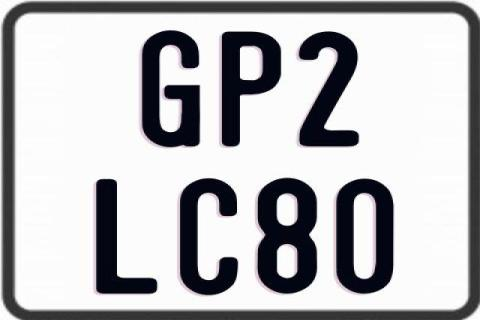0: (254, 177, 316, 297), (298, 29, 359, 147), (335, 176, 396, 291)
C: (177, 178, 238, 296)
G: (142, 29, 204, 151)
L: (96, 180, 161, 298)
P: (222, 31, 283, 148)
